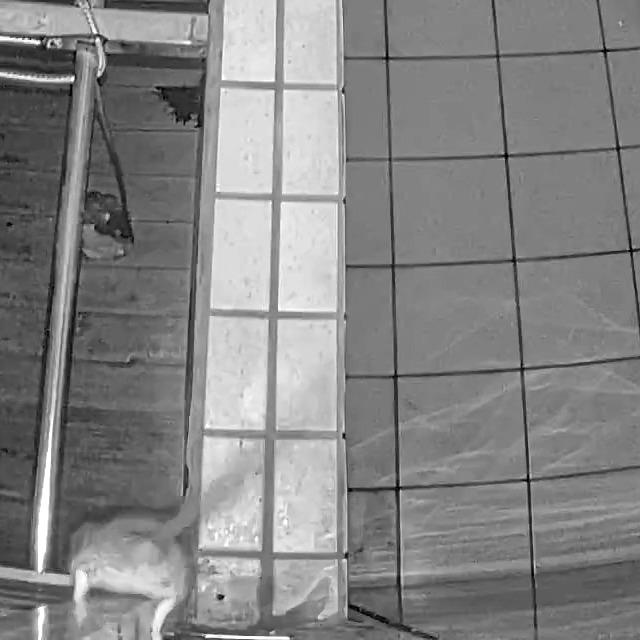rat: (69, 372, 333, 639)
